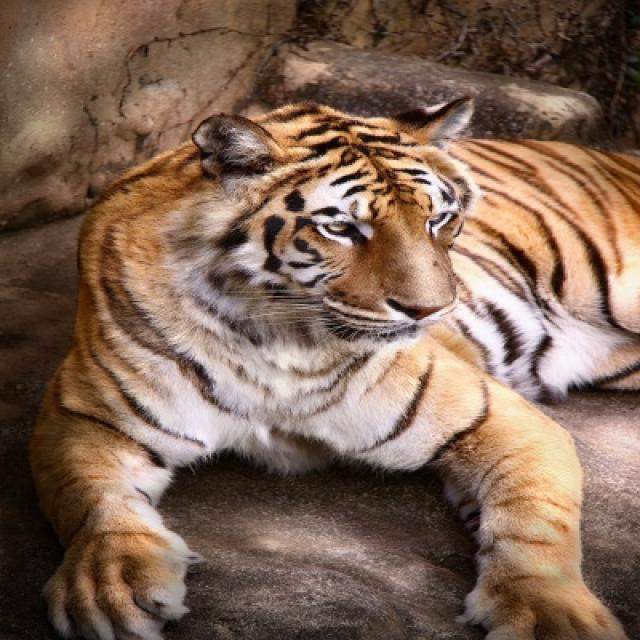Tiger: (30, 98, 638, 638)
